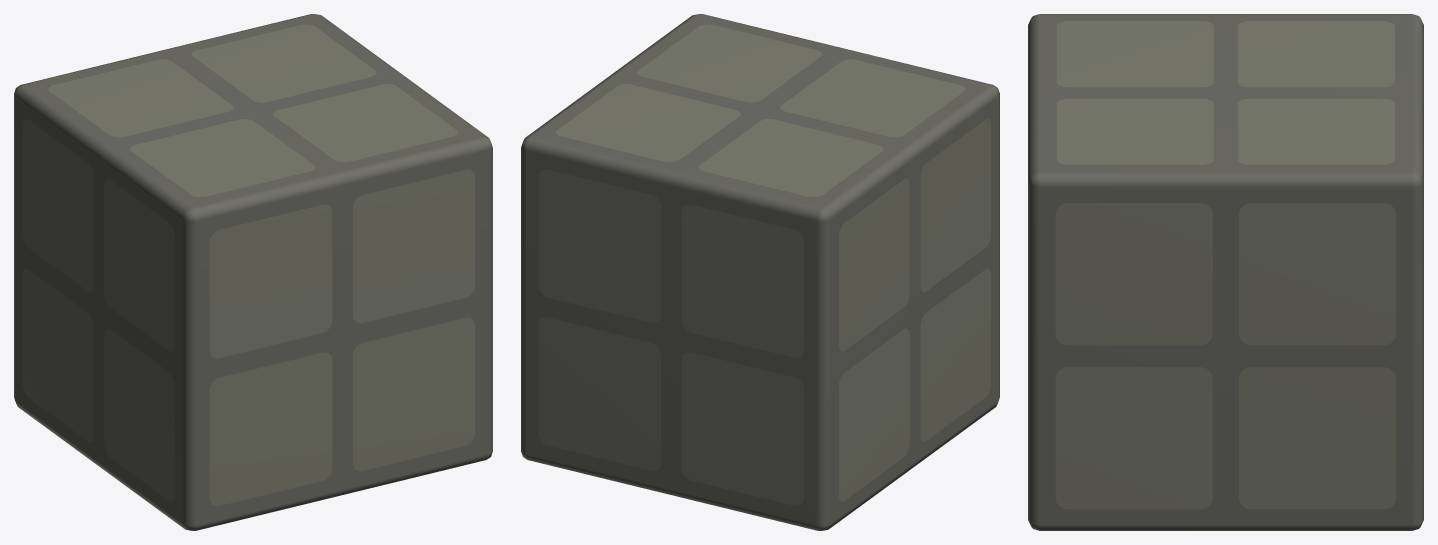
File: gray_cube.obj
The picture shows the model from 3 angles, left to right: view 1: azimuth 30°, elevation 25°; view 2: azimuth 150°, elevation 25°; view 3: azimuth 270°, elevation 25°; orthographic projection. The views are drawn at different scales.
Visible parts, largest first — view 1: pCube11_Mesh.003; view 2: pCube11_Mesh.003; view 3: pCube11_Mesh.003.
Boxes of the visible parts, x1=… form: pCube11_Mesh.003: x1=14, y1=14, x2=492, y2=530; pCube11_Mesh.003: x1=521, y1=14, x2=999, y2=530; pCube11_Mesh.003: x1=1028, y1=14, x2=1423, y2=530.
Size of the model in its own units: 2 by 2 by 2.
Materials: 1 (1 with a texture image).
